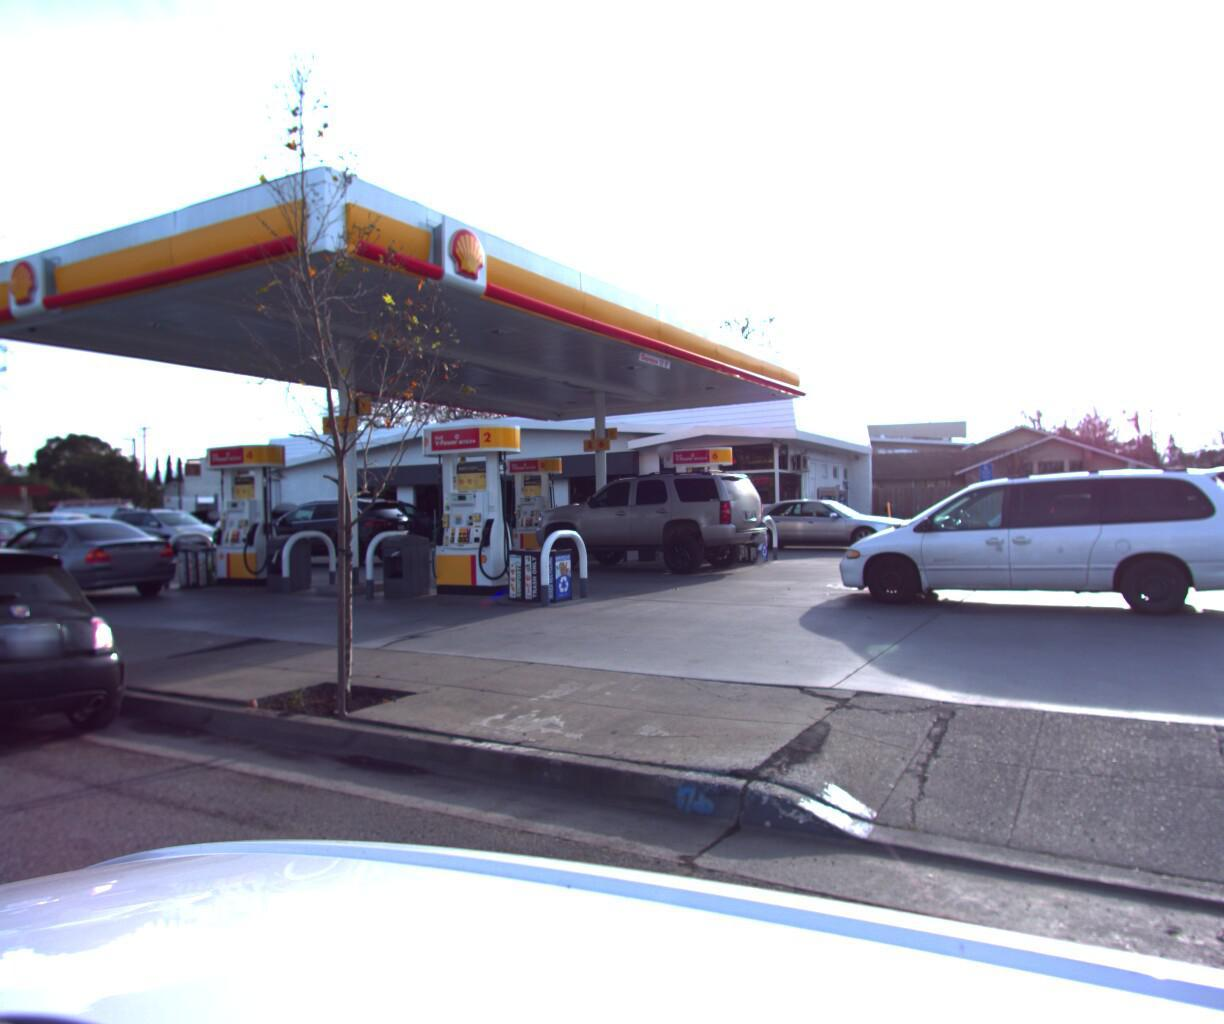car: (823, 447, 1224, 619), (0, 531, 141, 789), (0, 520, 190, 611), (0, 514, 128, 563), (0, 517, 76, 573), (0, 522, 26, 564)
